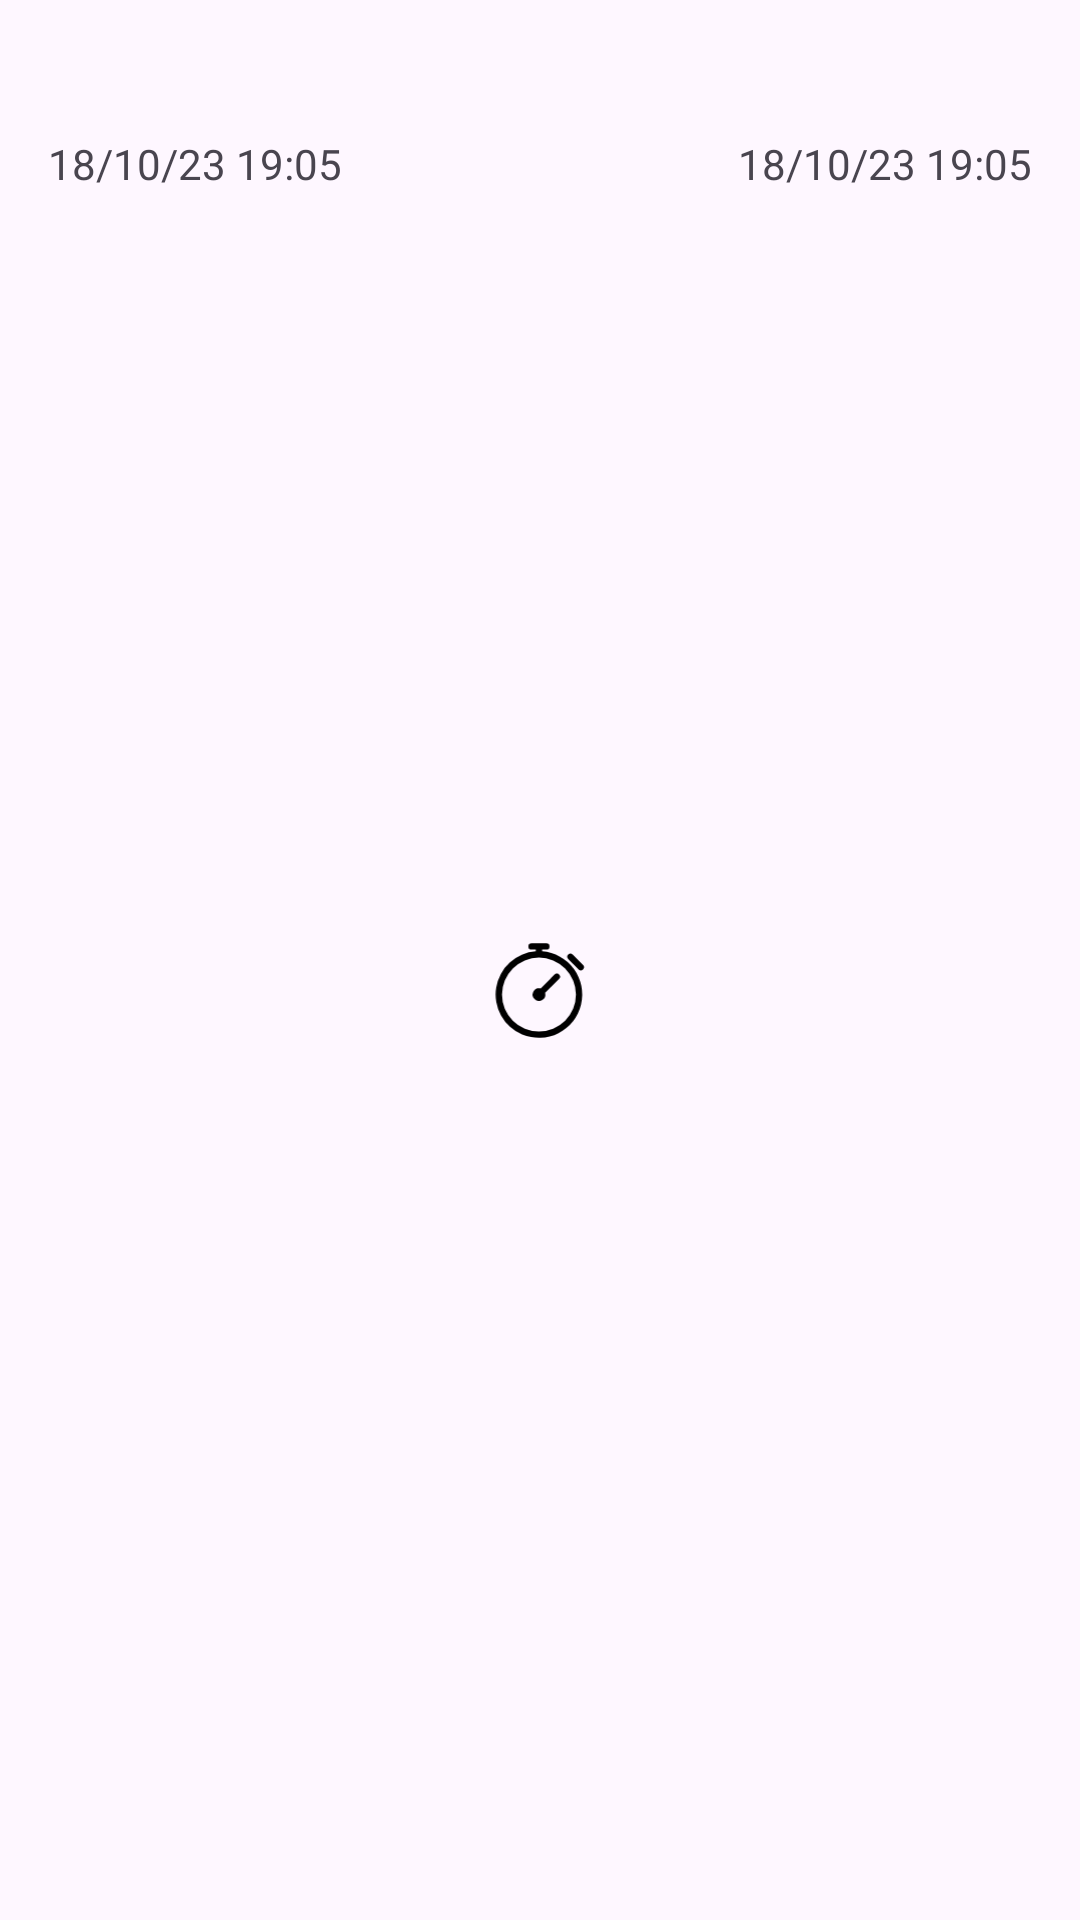

Named icons in this screenshot (1080 × 1920) and their bounding boxes, (x1, y1, x2, y2):
chrono: (495, 943, 585, 1038)
